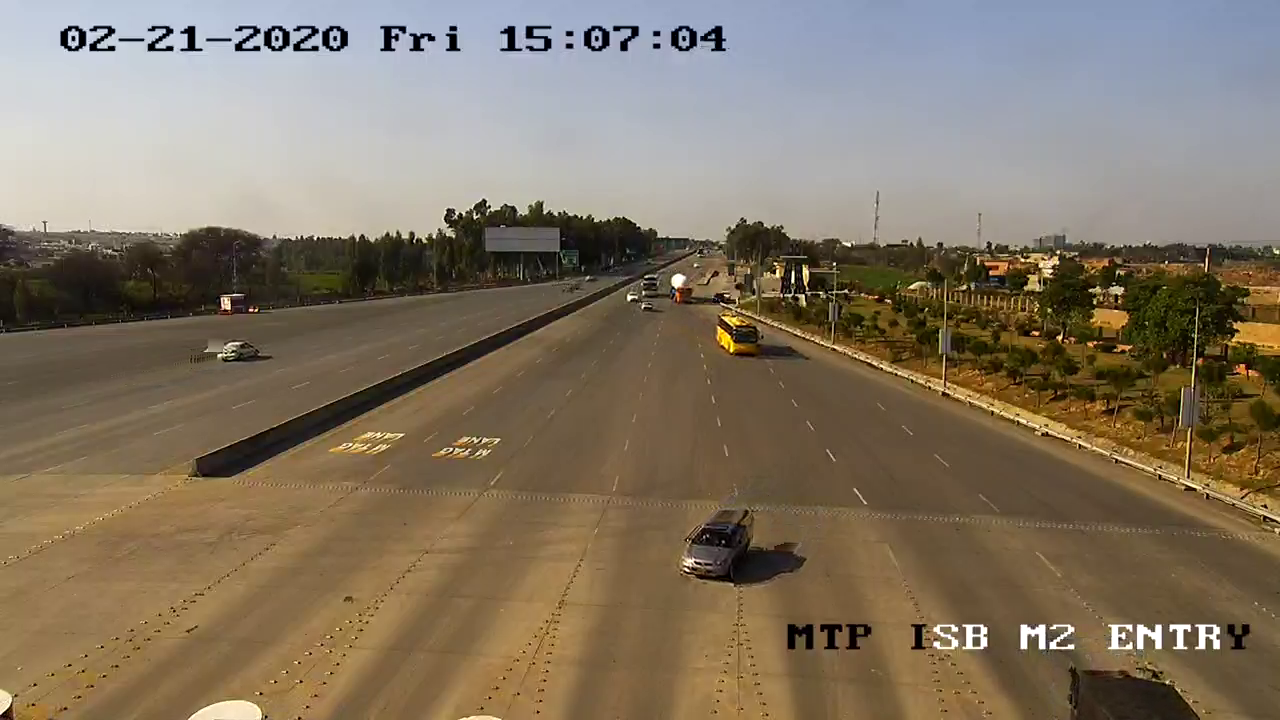f4: (703, 298, 775, 369)
